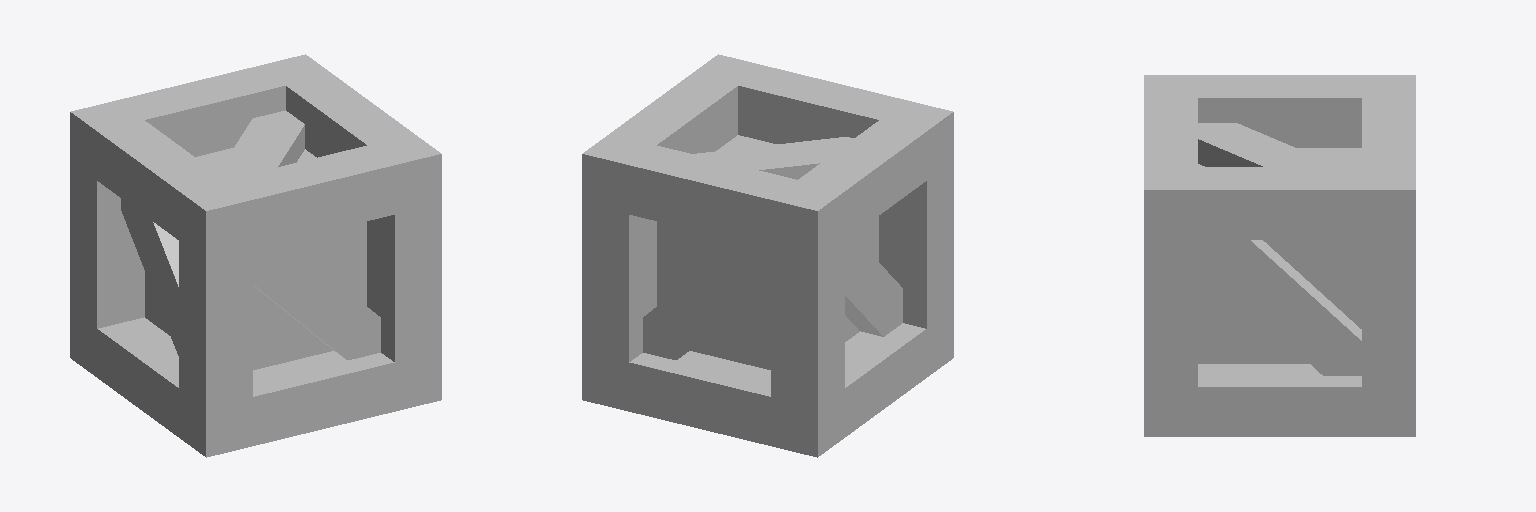
Rendered from crate-color.obj.
3 views of the same model, side by side, from view 1: azimuth 30°, elevation 25°; view 2: azimuth 150°, elevation 25°; view 3: azimuth 270°, elevation 25° (orthographic).
Parts seen in each view (by area): view 1: crate-color.072; view 2: crate-color.072; view 3: crate-color.072.
Boxes of the visible parts, x1=… form: crate-color.072: x1=70, y1=54, x2=441, y2=457; crate-color.072: x1=582, y1=54, x2=953, y2=457; crate-color.072: x1=1144, y1=75, x2=1415, y2=436.
Bounding box in the file's own units: 0.5 × 0.5 × 0.5.